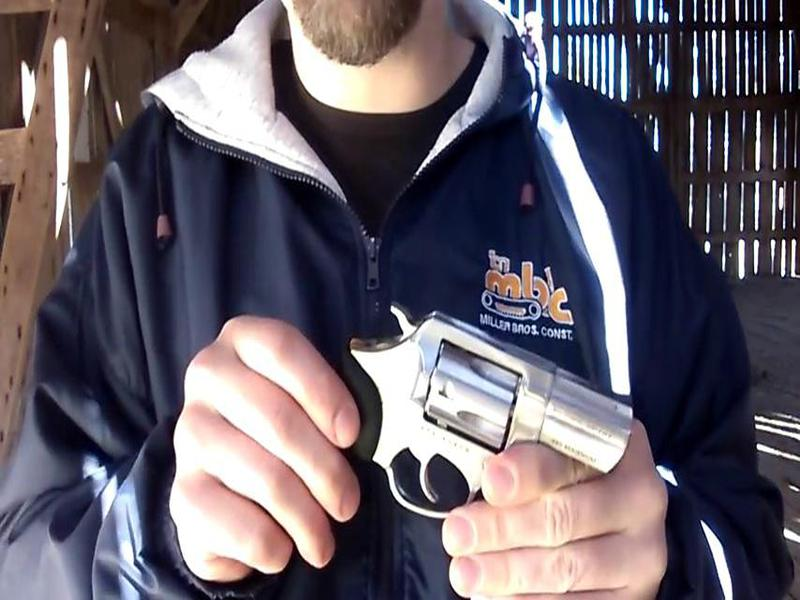Revolver: (286, 256, 635, 555)
